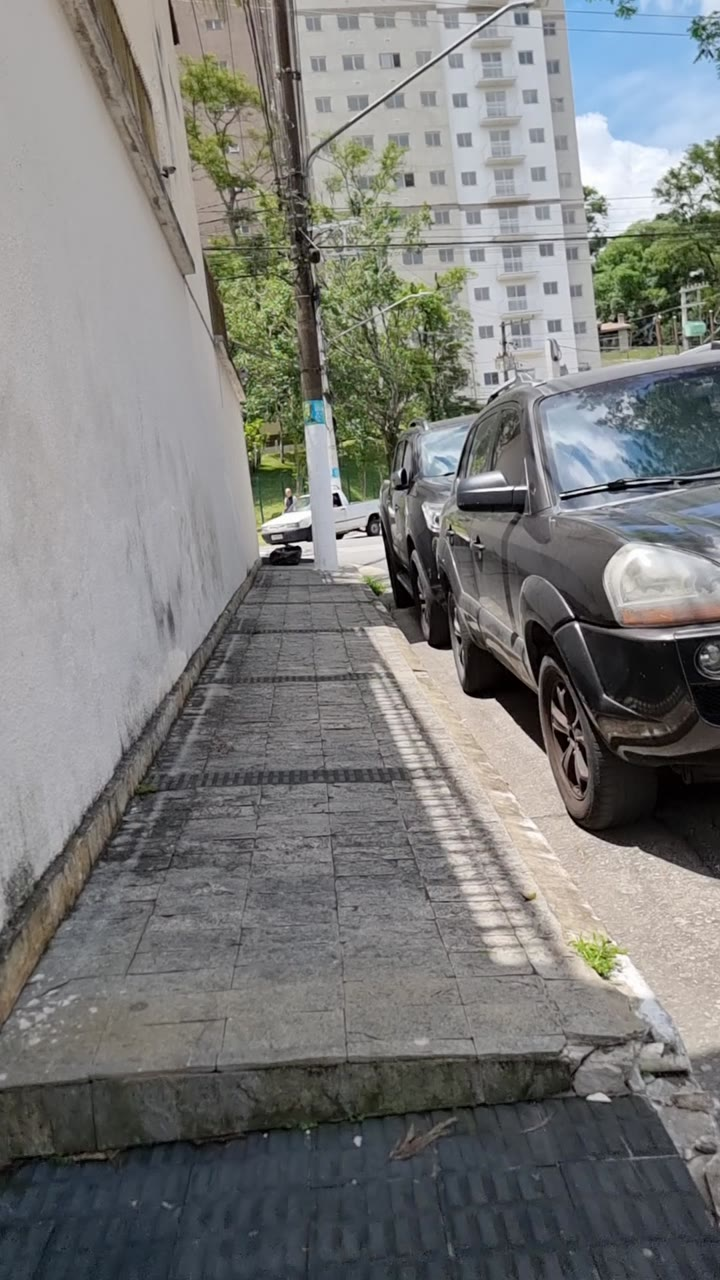desnivel: (0, 973, 720, 1114)
obstaculo: (302, 192, 338, 576)
